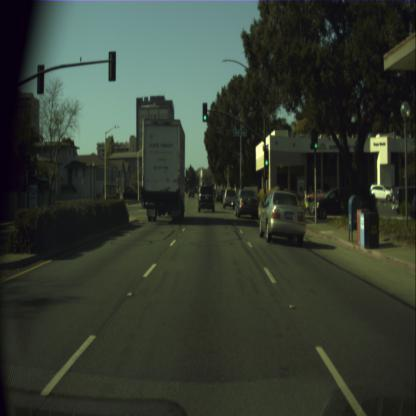Green: (202, 103, 207, 121), (314, 128, 318, 148), (264, 150, 268, 167)
